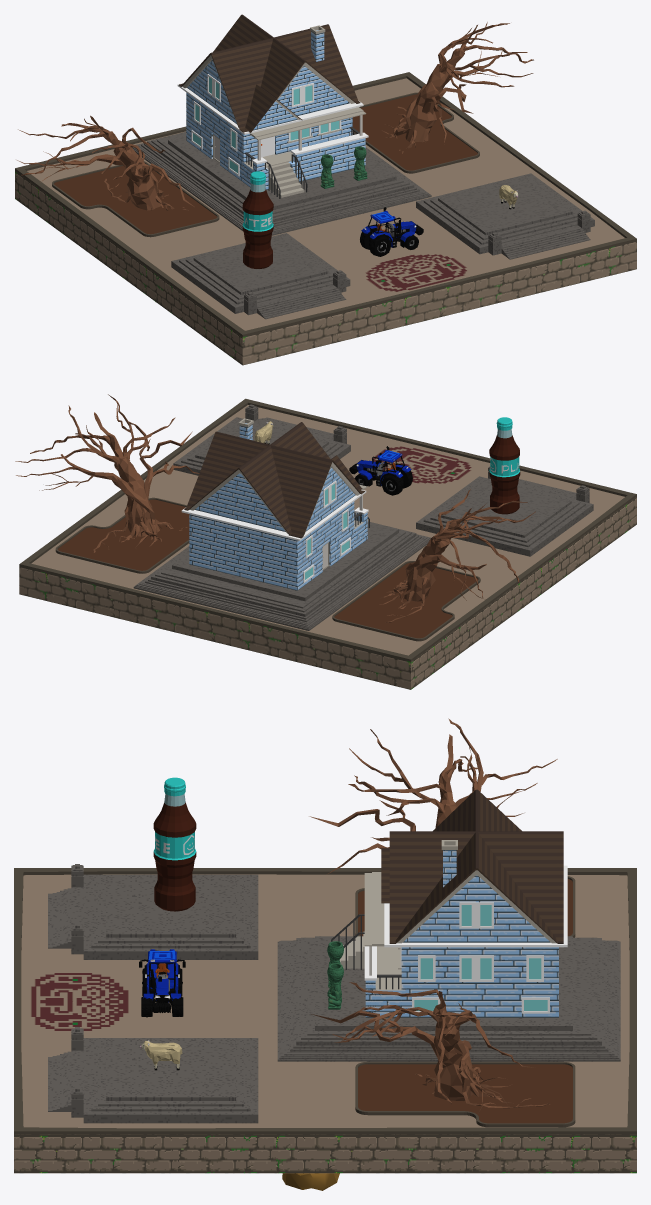
3 views of the same model, one above another, from view 1: azimuth 30°, elevation 25°; view 2: azimuth 150°, elevation 25°; view 3: azimuth 270°, elevation 25° (orthographic). The views are drawn at different scales.
Visible parts, largest first — view 1: Cube.011, Cube.547, OBJRANDOM_PLATZEECOLA, VEHICLES_TRACTOR; view 2: Cube.011, Cube.547, OBJRANDOM_PLATZEECOLA, VEHICLES_TRACTOR; view 3: Cube.011, Cube.547, OBJRANDOM_PLATZEECOLA, VEHICLES_TRACTOR, UNDERGROUND_T_REX_BONES, ANIMAL_OVEJA.
Boxes of the visible parts, x1,y1,x2,y2 form: Cube.011: (15,22,636,365); Cube.547: (177,14,368,198); OBJRANDOM_PLATZEECOLA: (242,171,273,268); VEHICLES_TRACTOR: (360,207,423,256); Cube.011: (15,394,636,689); Cube.547: (181,418,369,590); OBJRANDOM_PLATZEECOLA: (489,417,520,514); VEHICLES_TRACTOR: (349,446,412,495); Cube.011: (14,718,636,1173); Cube.547: (331,789,567,1017); OBJRANDOM_PLATZEECOLA: (153,777,196,911); VEHICLES_TRACTOR: (139,949,185,1017); UNDERGROUND_T_REX_BONES: (282,1173,339,1190); ANIMAL_OVEJA: (140,1040,182,1070).
Size of the model in its own units: 5099 by 1773 by 4000.
Materials: 33 (6 with a texture image).
